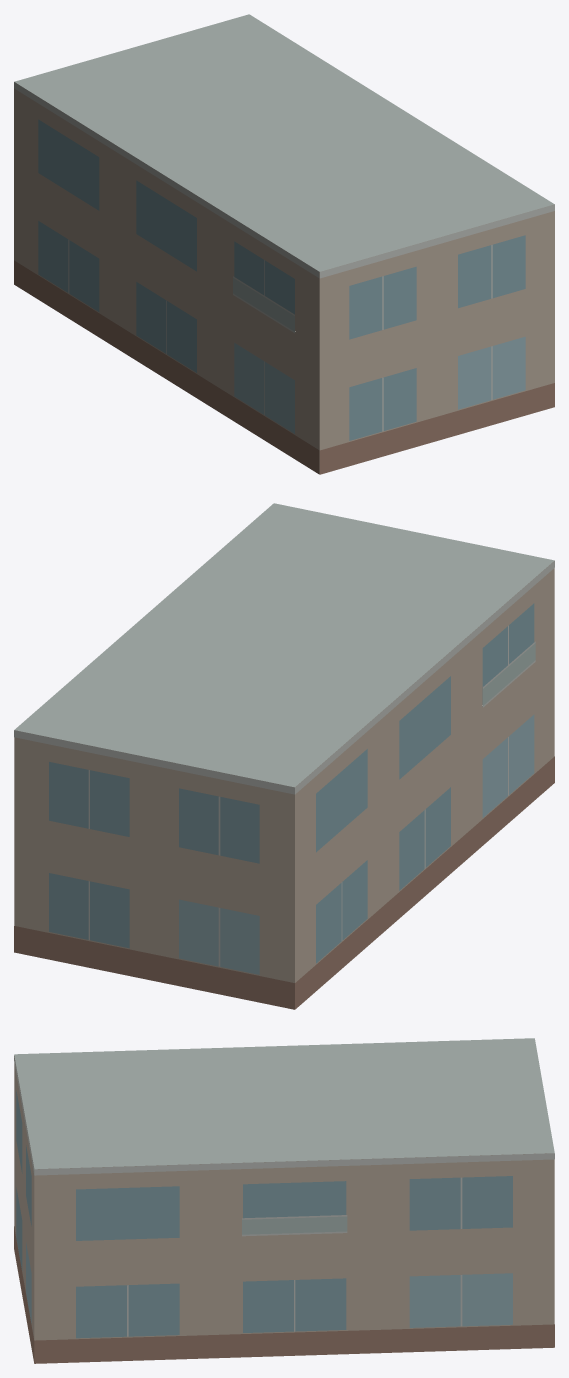
Rendered from survey-upis-32739907.glb.
3 views of the same model, one above another, from view 1: azimuth 30°, elevation 25°; view 2: azimuth 150°, elevation 25°; view 3: azimuth 270°, elevation 25° (orthographic). The views are drawn at different scales.
Visible parts, largest first — view 1: survey-upis-32739907.tmp; view 2: survey-upis-32739907.tmp; view 3: survey-upis-32739907.tmp.
Part boxes in pixels (x1=…): survey-upis-32739907.tmp: x1=14, y1=14, x2=554, y2=474; survey-upis-32739907.tmp: x1=14, y1=503, x2=554, y2=1009; survey-upis-32739907.tmp: x1=14, y1=1038, x2=554, y2=1363.
Size of the model in its own units: 10.85 by 7.5 by 18.9.
